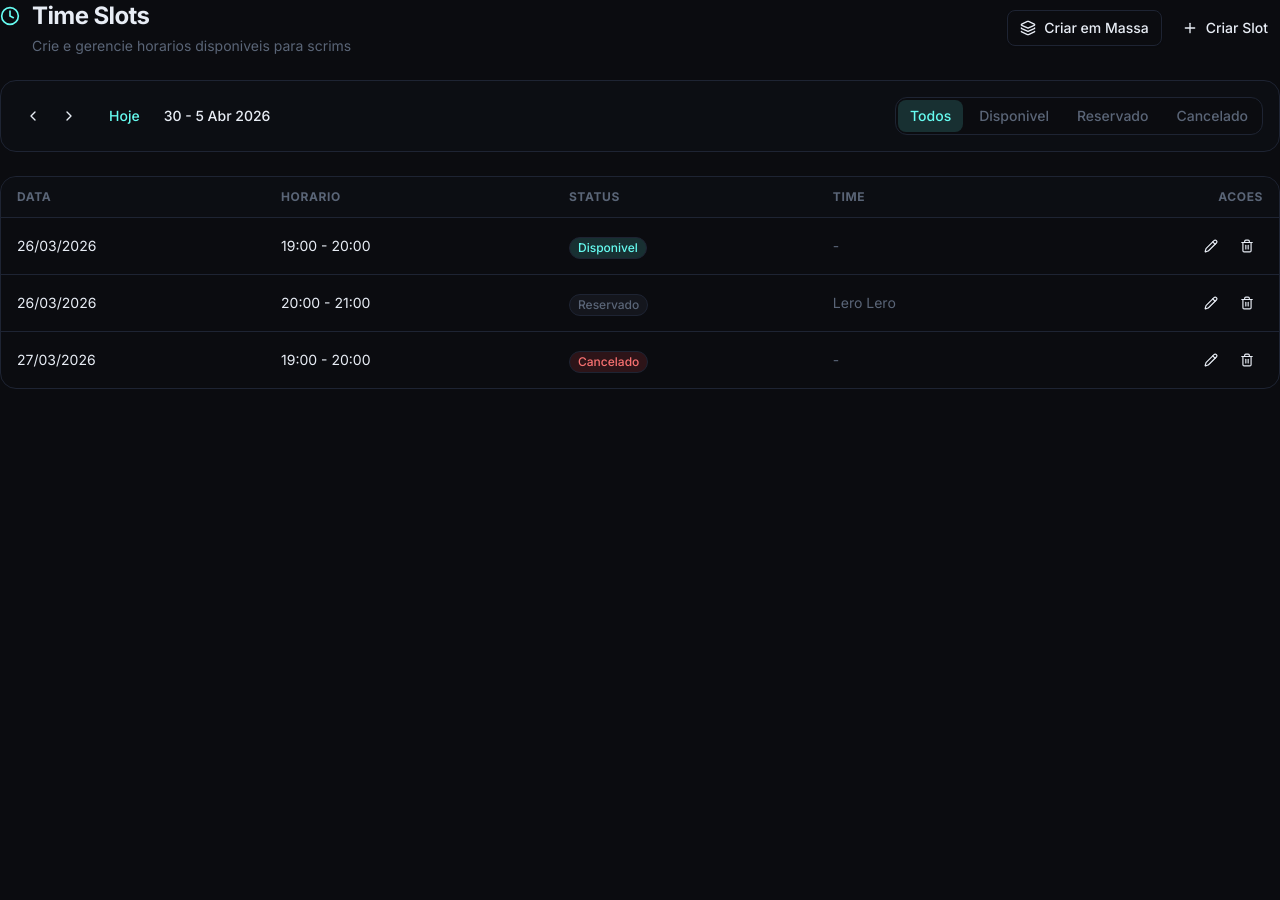
AdminSlots › edit slot › opens edit dialog when edit is clicked
Click the 1st button named "editar".
click(1211, 246)  # box [1195,230,1227,262]
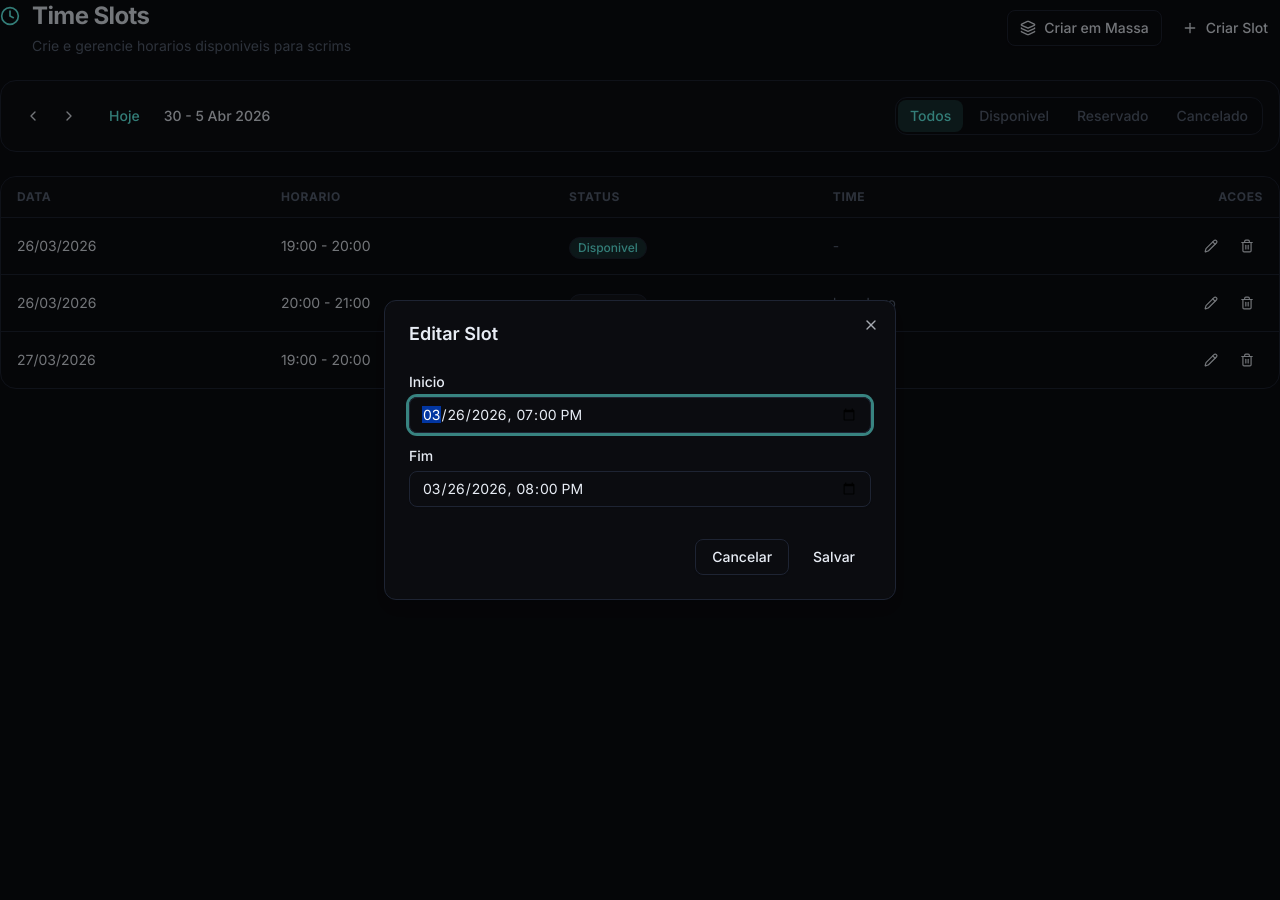
Expected: the heading "Editar Slot" is shown, [409,323,498,344]
